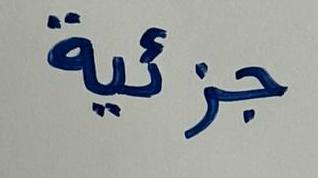hamza: (125, 17, 169, 114)
jeem: (225, 50, 296, 140)
teh_marbota: (41, 10, 93, 99)
yeh: (95, 36, 123, 124)
zain: (175, 50, 222, 154)
